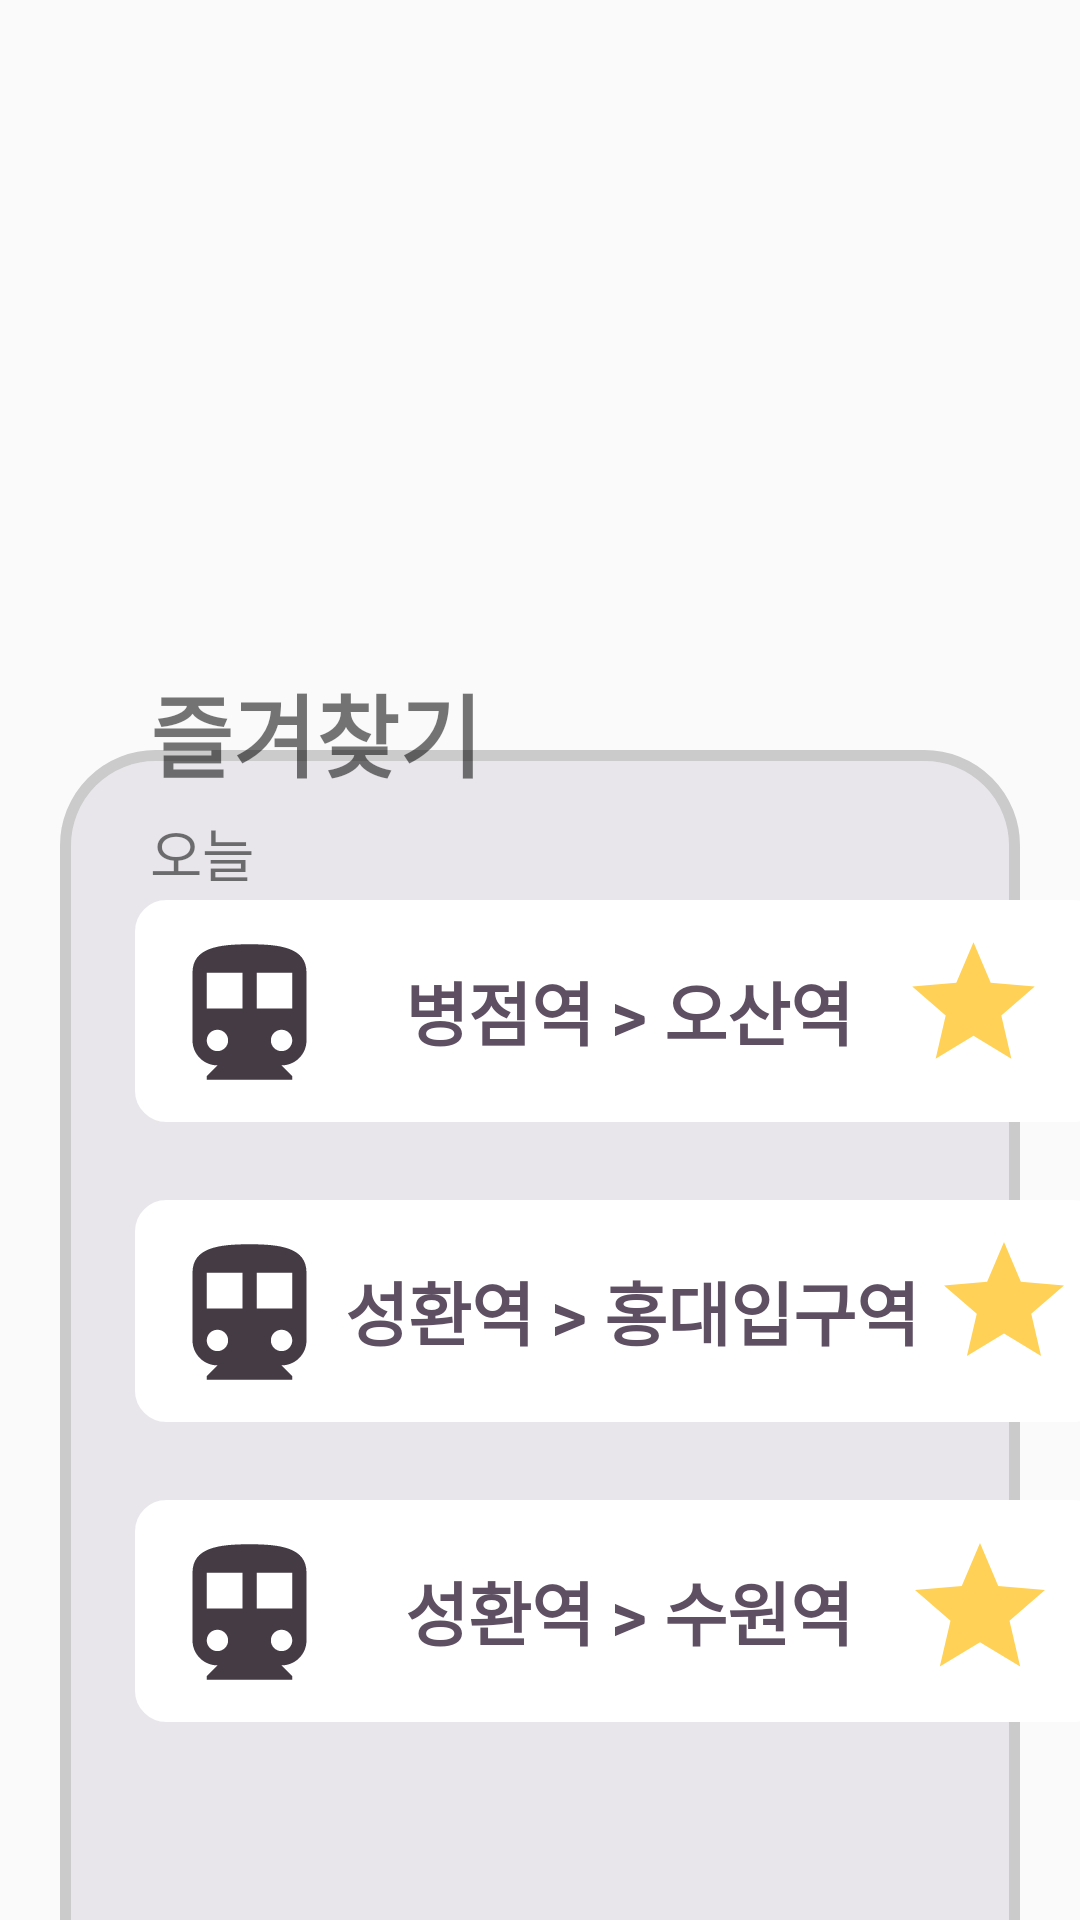

Named icons in this screenshot (1080 x 1920) and their bounding boxes, (x1, y1, x2, y2):
directions subway: (192, 944, 307, 1080), (192, 1244, 307, 1380), (192, 1544, 307, 1680)
star: (912, 942, 1035, 1059), (944, 1242, 1064, 1356), (915, 1543, 1045, 1666)
